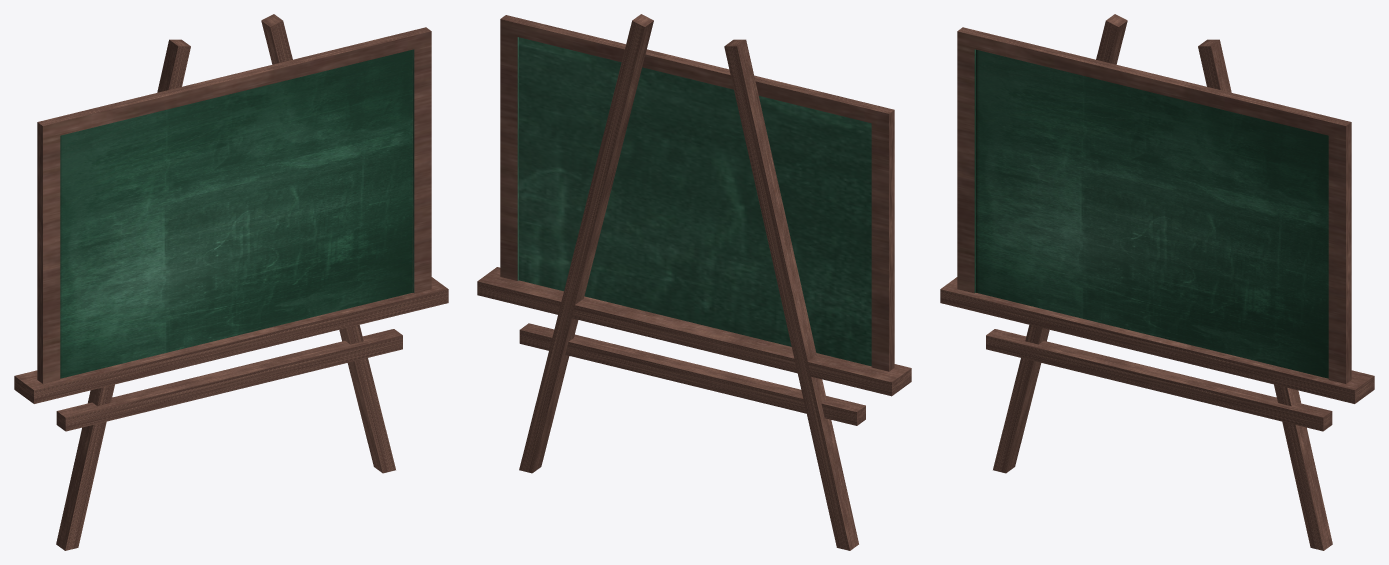
Rendered from quadro negro.fbx.
The picture shows the model from 3 angles, left to right: view 1: azimuth 30°, elevation 25°; view 2: azimuth 150°, elevation 25°; view 3: azimuth 330°, elevation 25°; orthographic projection.
Visible parts, largest first — view 1: apoio baixo.001; view 2: apoio baixo.001; view 3: apoio baixo.001.
Part boxes in pixels (x1=…): apoio baixo.001: x1=14, y1=14, x2=448, y2=550; apoio baixo.001: x1=477, y1=14, x2=911, y2=550; apoio baixo.001: x1=940, y1=14, x2=1374, y2=550.
Size of the model in its own units: 245 by 269 by 20.22.
